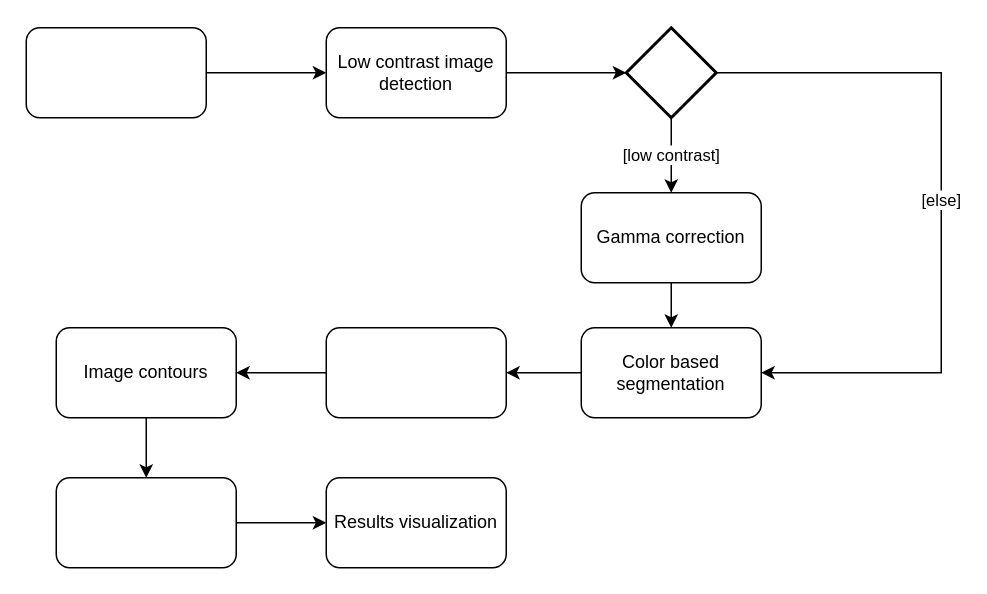
Image size: 987x594. Some labels were removed from this diagram. The centre of each missing label's shape, as x and y in pixels:
"Contour filter and processing" belongs at point (145, 522).
"Morphological operation" belongs at point (415, 372).
"Read images from file paths" belongs at point (115, 72).
